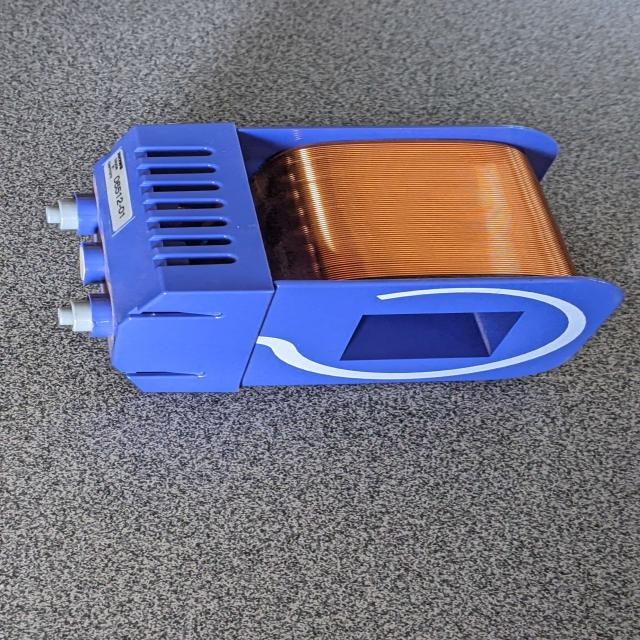Solenoid: (18, 120, 632, 402)
